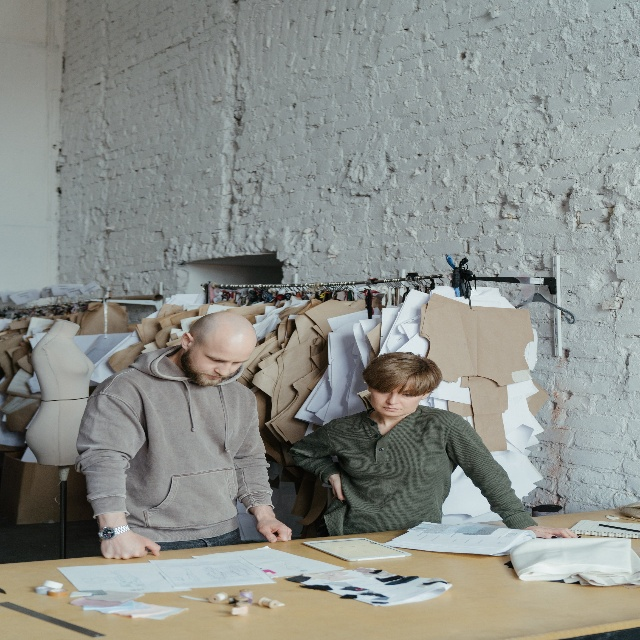Sin_guantes: (100, 529, 161, 560), (256, 515, 292, 543), (525, 525, 581, 539), (332, 475, 346, 505)
